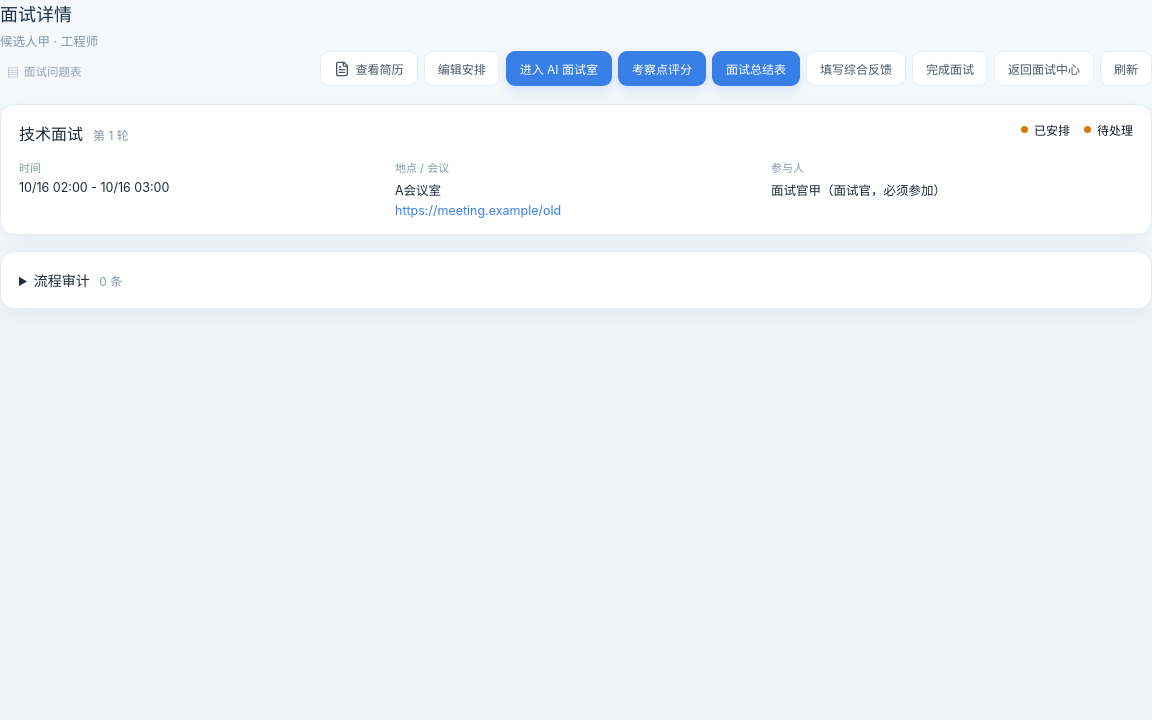
Test case: 编辑面试安排 › prefills local time and displays both physical location and meeting URL
The image size is (1152, 720).
expect the element with class "meeting-details" shows "A会议室": met, box [395,183,441,198]
expect the element with class "meeting-details" shows "https://meeting.example/old": met, box [395,203,757,218]
Click the button "编辑安排".
click(462, 69)  # box [424,51,500,86]
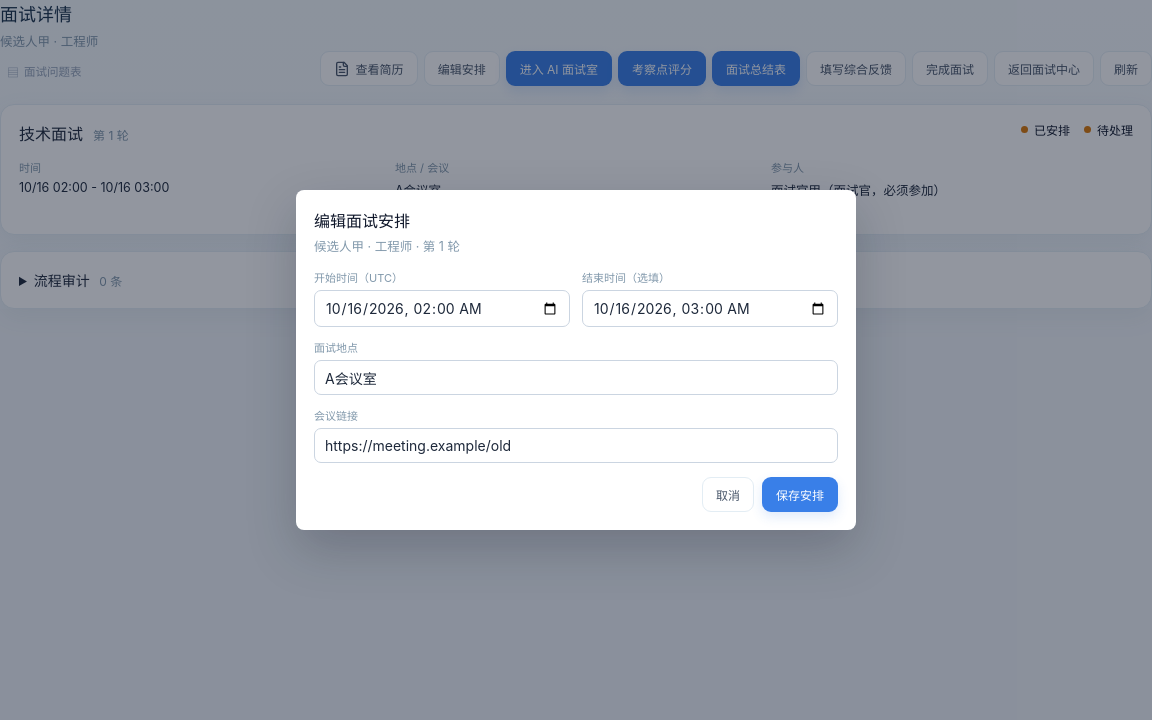
expect the field labelled "面试地点" holds "A会议室": met, box [314,360,838,395]
expect the field labelled "会议链接" holds "https://meeting.example/old": met, box [314,428,838,463]
